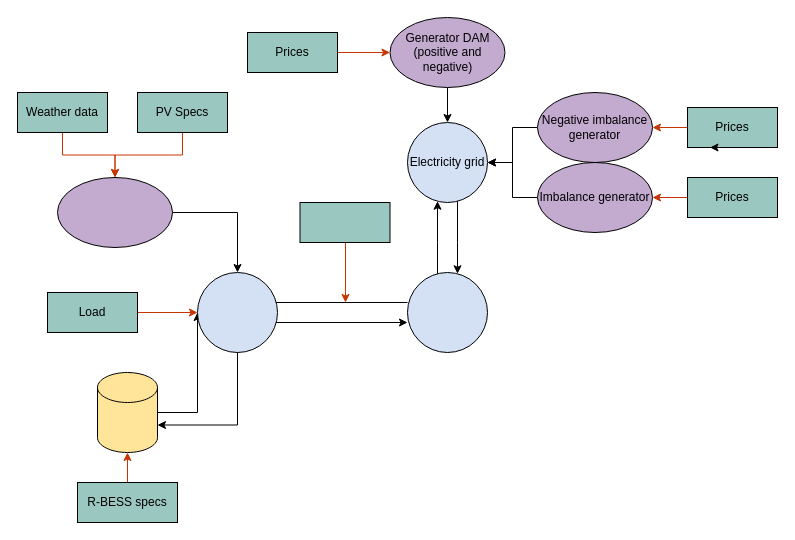
This 795x540 diagram has some shape labels left out. Here are the shapes that lost their labels. From the top down, the box of each, then its label:
(56, 176, 172, 248): PV
(299, 202, 390, 242): Energy tax
(196, 272, 278, 352): Household
(406, 272, 488, 352): MRS
(96, 372, 158, 452): R-BESS
